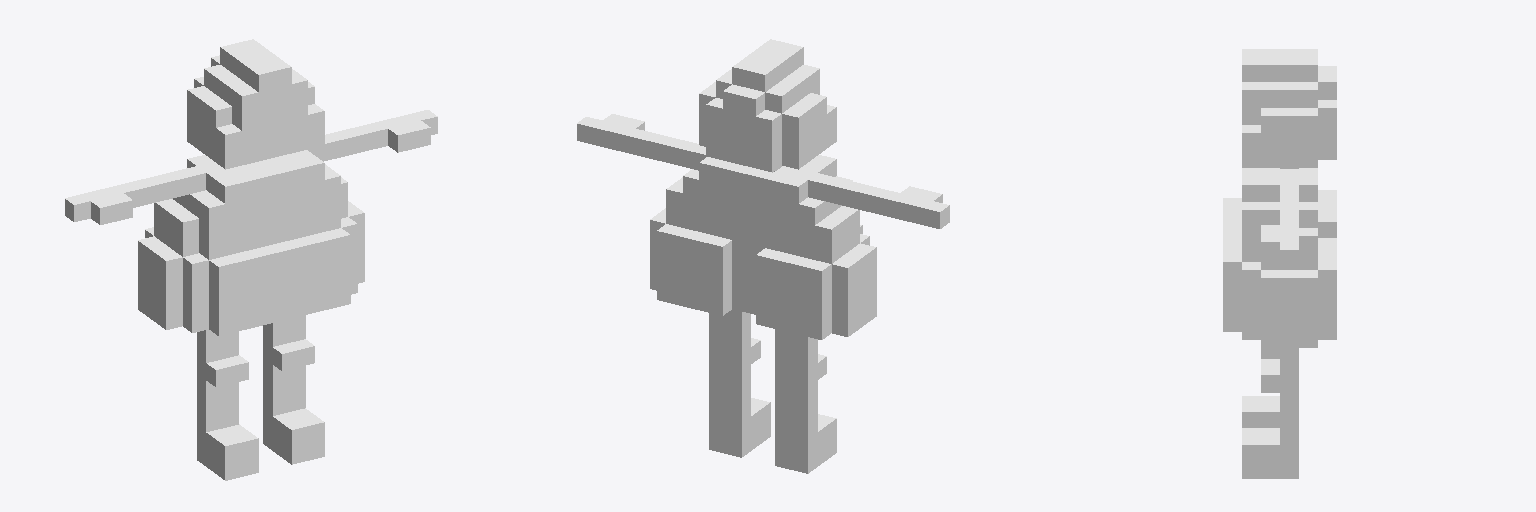
File: fat-man.obj
3 renders of one model, left to right at view 1: azimuth 30°, elevation 25°; view 2: azimuth 150°, elevation 25°; view 3: azimuth 270°, elevation 25°, orthographic.
Visible parts, largest first — view 1: object 1; view 2: object 1; view 3: object 1.
Part boxes in pixels (x1,y1,x2,y2): object 1: (65, 39, 437, 480); object 1: (577, 39, 949, 473); object 1: (1223, 49, 1336, 478).
Size of the model in its own units: 2.2 by 2.3 by 0.6.